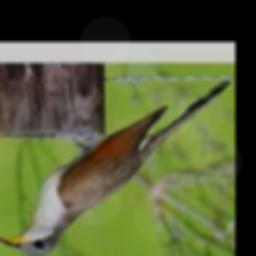Cuckoo: (0, 80, 229, 256)
